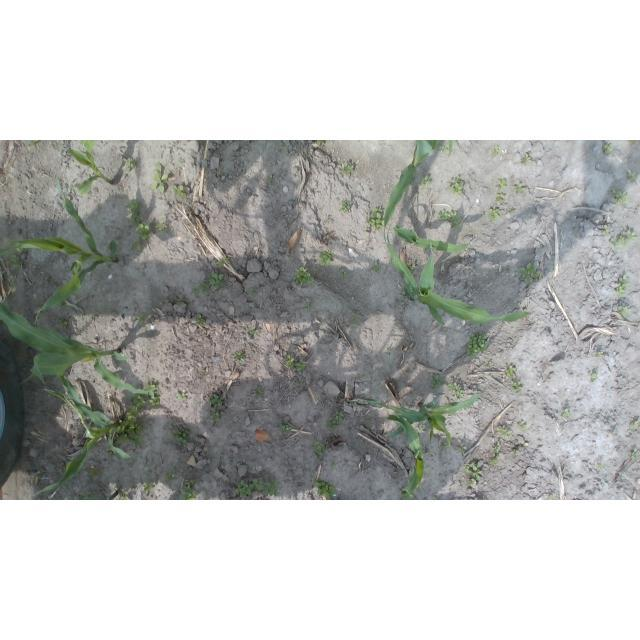Maize: (0, 173, 116, 329), (0, 295, 158, 394), (382, 224, 530, 329), (34, 369, 132, 495), (344, 377, 492, 448), (383, 141, 455, 224), (57, 140, 113, 198), (388, 413, 425, 500), (392, 224, 472, 254), (76, 490, 119, 500)
Weeds: (111, 392, 147, 446), (236, 477, 280, 499), (465, 331, 489, 360), (611, 229, 638, 252), (200, 272, 224, 297), (150, 163, 168, 193), (143, 380, 162, 408), (315, 477, 338, 500), (465, 460, 484, 486), (125, 199, 143, 226), (365, 206, 385, 230), (520, 263, 541, 285), (439, 209, 462, 229), (292, 266, 314, 286), (180, 478, 199, 500), (446, 176, 465, 197), (325, 410, 344, 430), (612, 188, 631, 207), (5, 252, 23, 272), (617, 275, 632, 298), (134, 222, 152, 240), (172, 428, 189, 447), (122, 156, 141, 172), (447, 382, 465, 398), (319, 249, 335, 266), (209, 394, 226, 409), (430, 374, 445, 390), (496, 425, 512, 440), (215, 255, 232, 268), (155, 219, 169, 234), (313, 439, 326, 455), (279, 420, 293, 434), (162, 470, 177, 483), (57, 316, 69, 332), (341, 161, 354, 175), (400, 286, 413, 300), (75, 490, 94, 499), (497, 174, 507, 191), (510, 378, 522, 392), (172, 184, 186, 196), (512, 182, 526, 194), (283, 355, 294, 370), (338, 200, 350, 213), (488, 209, 502, 220), (504, 365, 516, 377), (135, 313, 147, 325), (195, 314, 206, 327), (90, 468, 103, 479), (295, 360, 306, 373), (209, 410, 220, 423), (371, 262, 382, 275), (617, 306, 630, 317), (144, 480, 154, 494), (603, 143, 614, 155), (420, 175, 431, 187), (561, 408, 572, 420), (489, 453, 500, 465), (234, 350, 244, 362), (192, 282, 201, 295), (491, 145, 500, 158), (106, 446, 114, 460), (134, 240, 145, 250), (521, 153, 531, 164), (408, 262, 417, 274), (458, 443, 467, 455), (492, 441, 501, 453), (590, 370, 598, 383), (305, 300, 315, 310), (627, 171, 637, 181), (496, 193, 506, 203), (351, 313, 361, 323), (437, 144, 448, 153), (440, 440, 449, 451), (248, 287, 256, 299), (602, 224, 610, 236), (592, 351, 605, 358), (364, 417, 373, 427), (338, 270, 348, 279), (417, 423, 427, 432), (248, 326, 259, 334), (176, 392, 187, 400), (631, 449, 639, 460), (57, 300, 67, 308), (520, 421, 527, 432), (119, 494, 131, 500), (177, 159, 185, 168), (630, 422, 639, 430), (177, 298, 187, 305), (384, 348, 392, 356), (276, 147, 285, 154), (317, 141, 326, 148), (255, 389, 262, 398), (331, 460, 338, 469), (598, 463, 607, 470), (28, 140, 38, 146), (268, 174, 275, 182), (399, 490, 406, 498), (512, 449, 521, 455), (45, 275, 52, 282), (357, 374, 364, 380), (548, 495, 556, 500), (297, 380, 303, 386), (316, 456, 322, 462), (628, 140, 637, 144), (310, 472, 315, 478), (433, 496, 440, 500), (201, 369, 205, 375), (67, 185, 73, 189), (488, 362, 493, 366), (511, 209, 516, 213), (324, 217, 328, 222), (520, 445, 526, 448), (481, 213, 485, 217)
